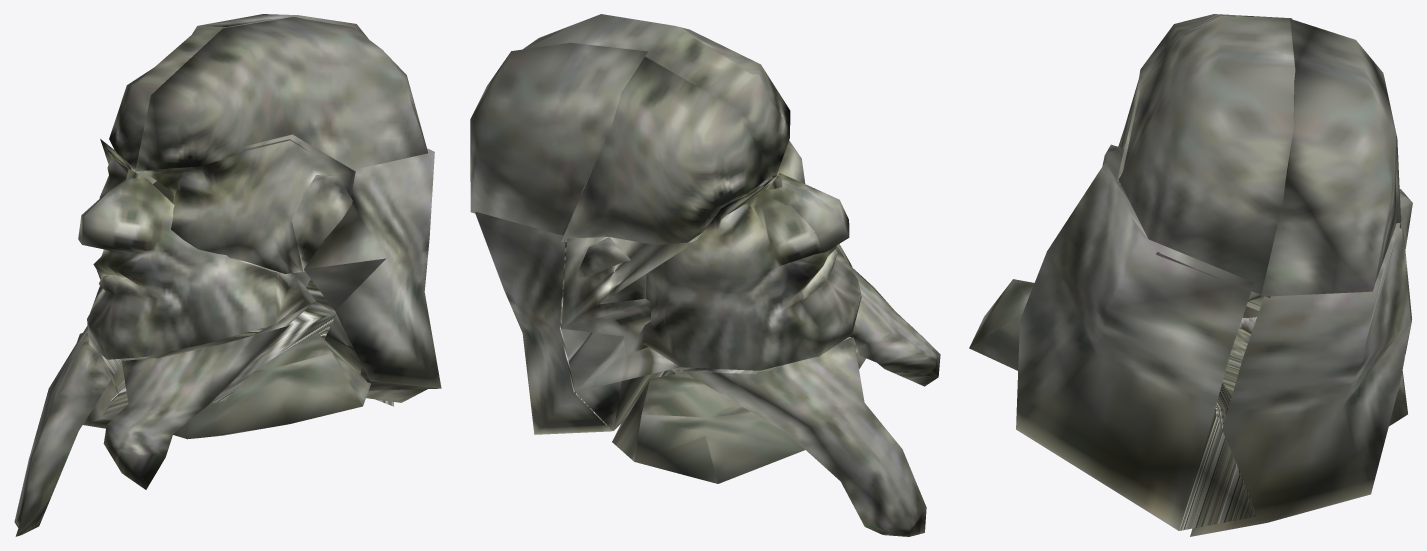
File: INST_SM_SCULPTUREHEAD_DESTROYED.fbx
3 views of the same model, side by side, from view 1: azimuth 30°, elevation 25°; view 2: azimuth 150°, elevation 25°; view 3: azimuth 270°, elevation 25° (orthographic). The views are drawn at different scales.
Visible parts, largest first — view 1: INST_SM_SCULPTUREHEAD_DESTROYED; view 2: INST_SM_SCULPTUREHEAD_DESTROYED; view 3: INST_SM_SCULPTUREHEAD_DESTROYED.
Boxes of the visible parts, left/top/right/bottom form: INST_SM_SCULPTUREHEAD_DESTROYED: left=14, top=14, right=441, bottom=536; INST_SM_SCULPTUREHEAD_DESTROYED: left=470, top=14, right=940, bottom=536; INST_SM_SCULPTUREHEAD_DESTROYED: left=969, top=14, right=1412, bottom=536.
Size of the model in its own units: 30907 by 31261 by 24398.
Materials: 1 (1 with a texture image).
